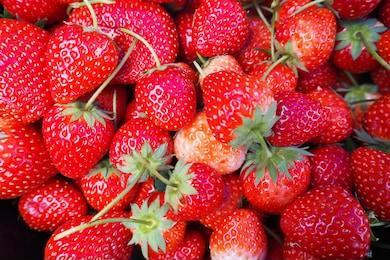Fresa: (200, 67, 278, 156), (40, 97, 116, 185), (46, 19, 121, 106), (239, 140, 315, 217), (105, 111, 178, 181), (134, 62, 200, 136), (164, 157, 229, 222), (208, 200, 272, 260)
